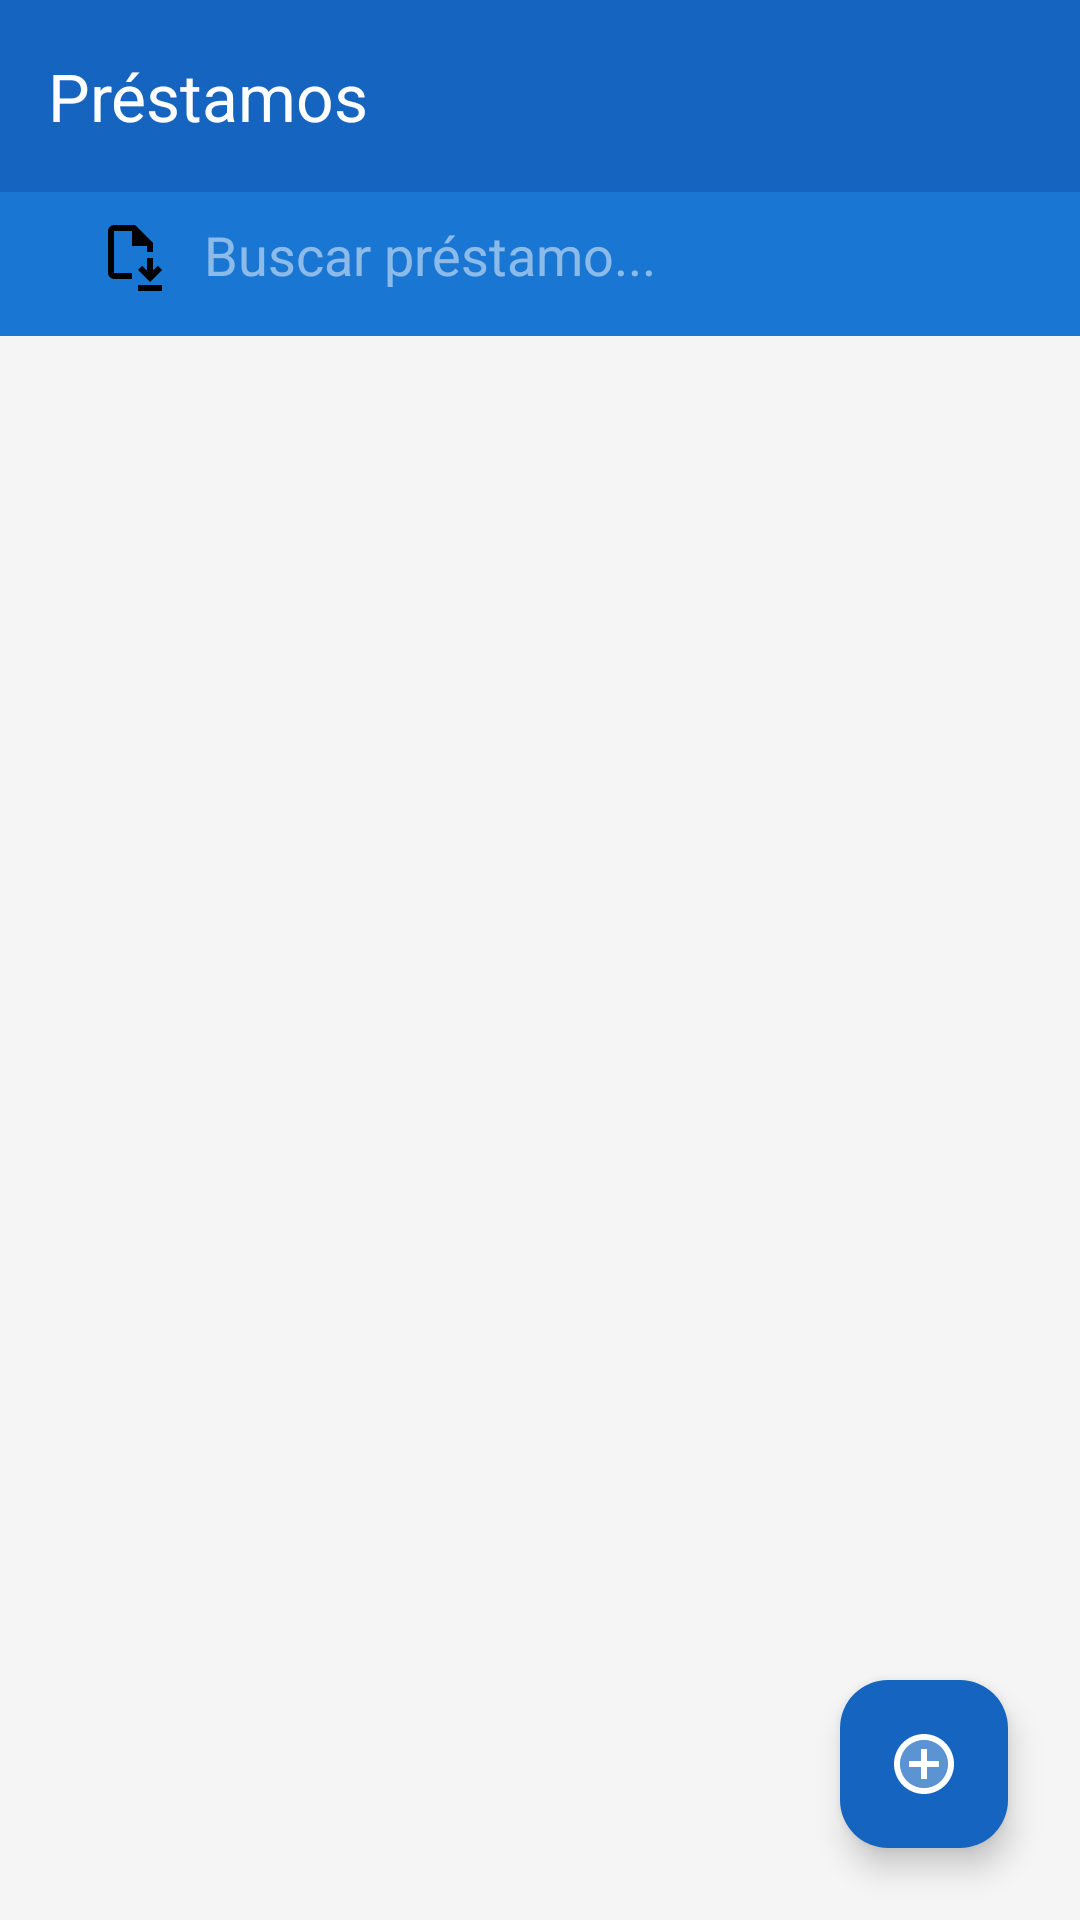

Where to tap for icons on this 1080w x 1920h app screen, as (x,y):
Nuevo préstamo: (924,1764)
